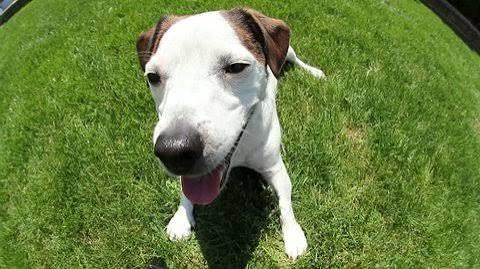adult_dog: (139, 5, 326, 259)
